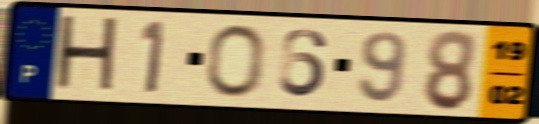1: (138, 19, 167, 97)
6: (277, 26, 330, 101)
8: (421, 27, 478, 114)
9: (354, 30, 410, 105)
H: (51, 13, 121, 98)
O: (206, 22, 267, 100)
